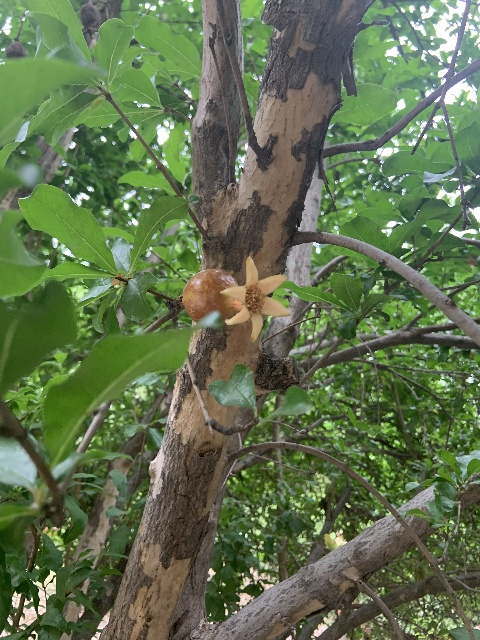early-fruit: (182, 254, 290, 342)
